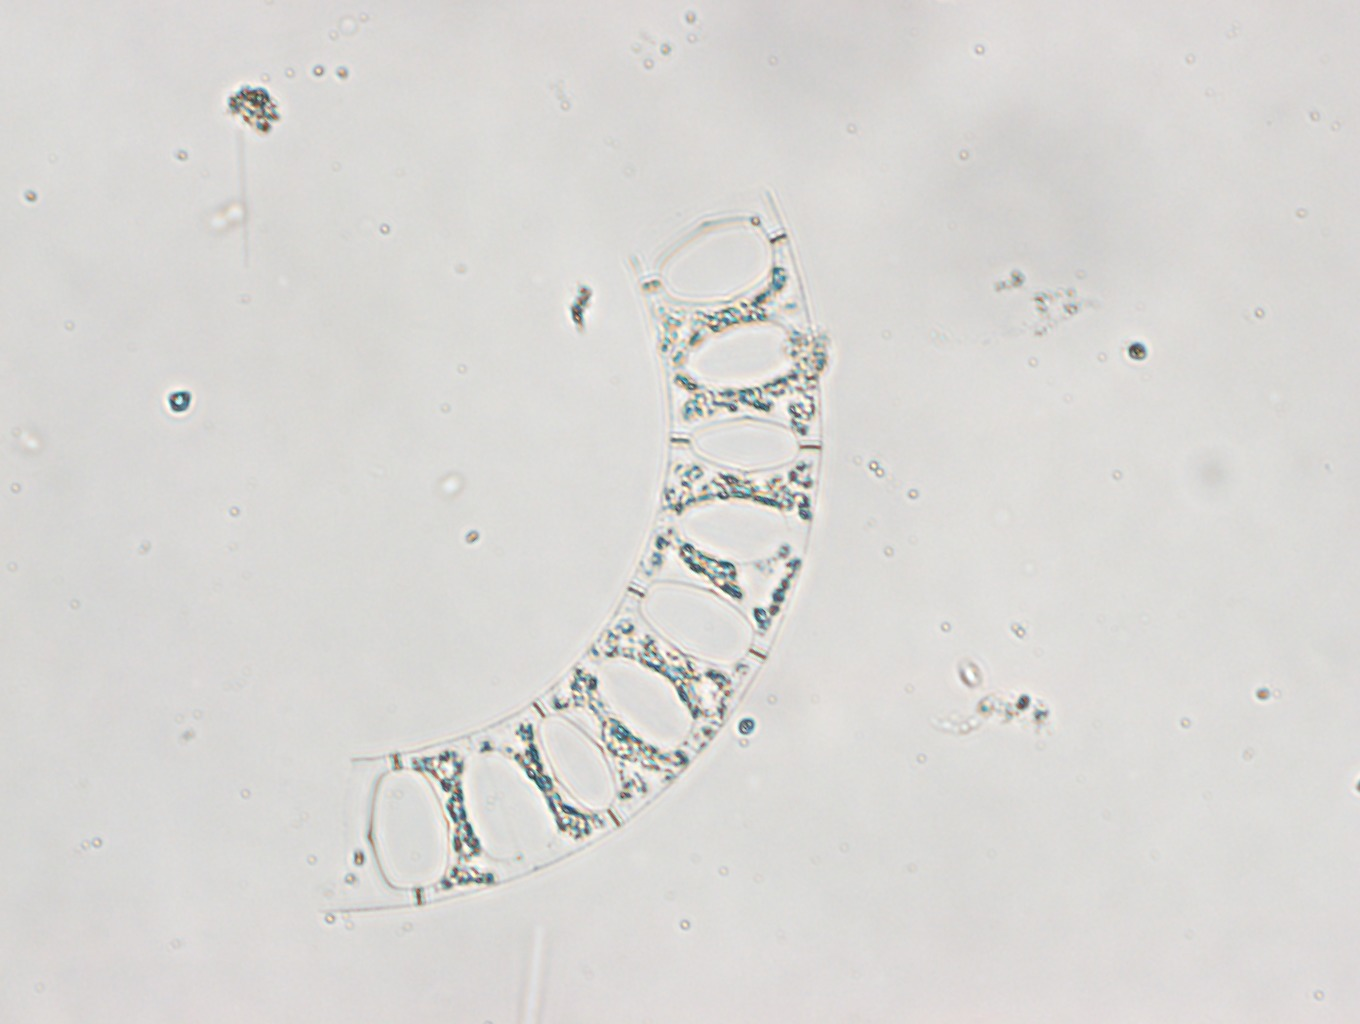eucampia: (321, 183, 822, 916)
